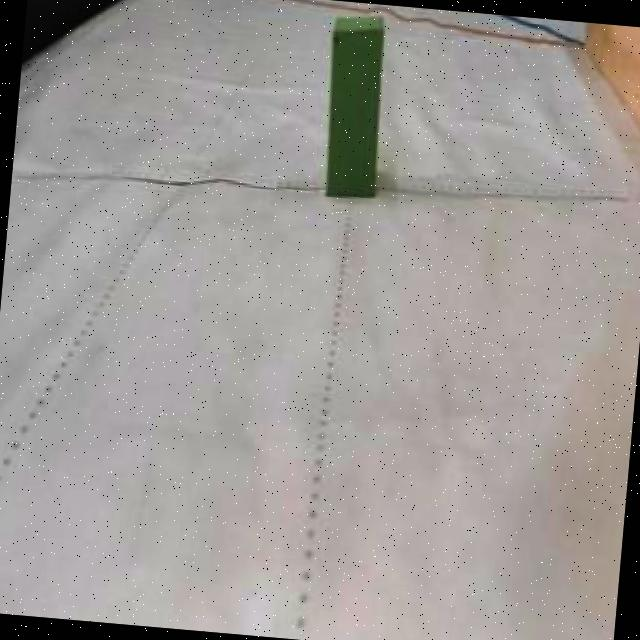greenbox: (320, 16, 390, 198)
